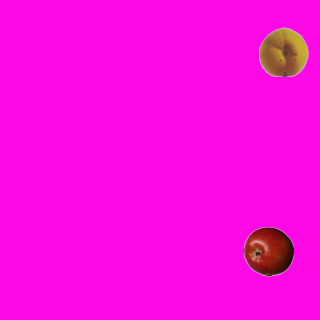Apple Braeburn: (243, 226, 293, 276)
Peach 2: (258, 26, 308, 76)
